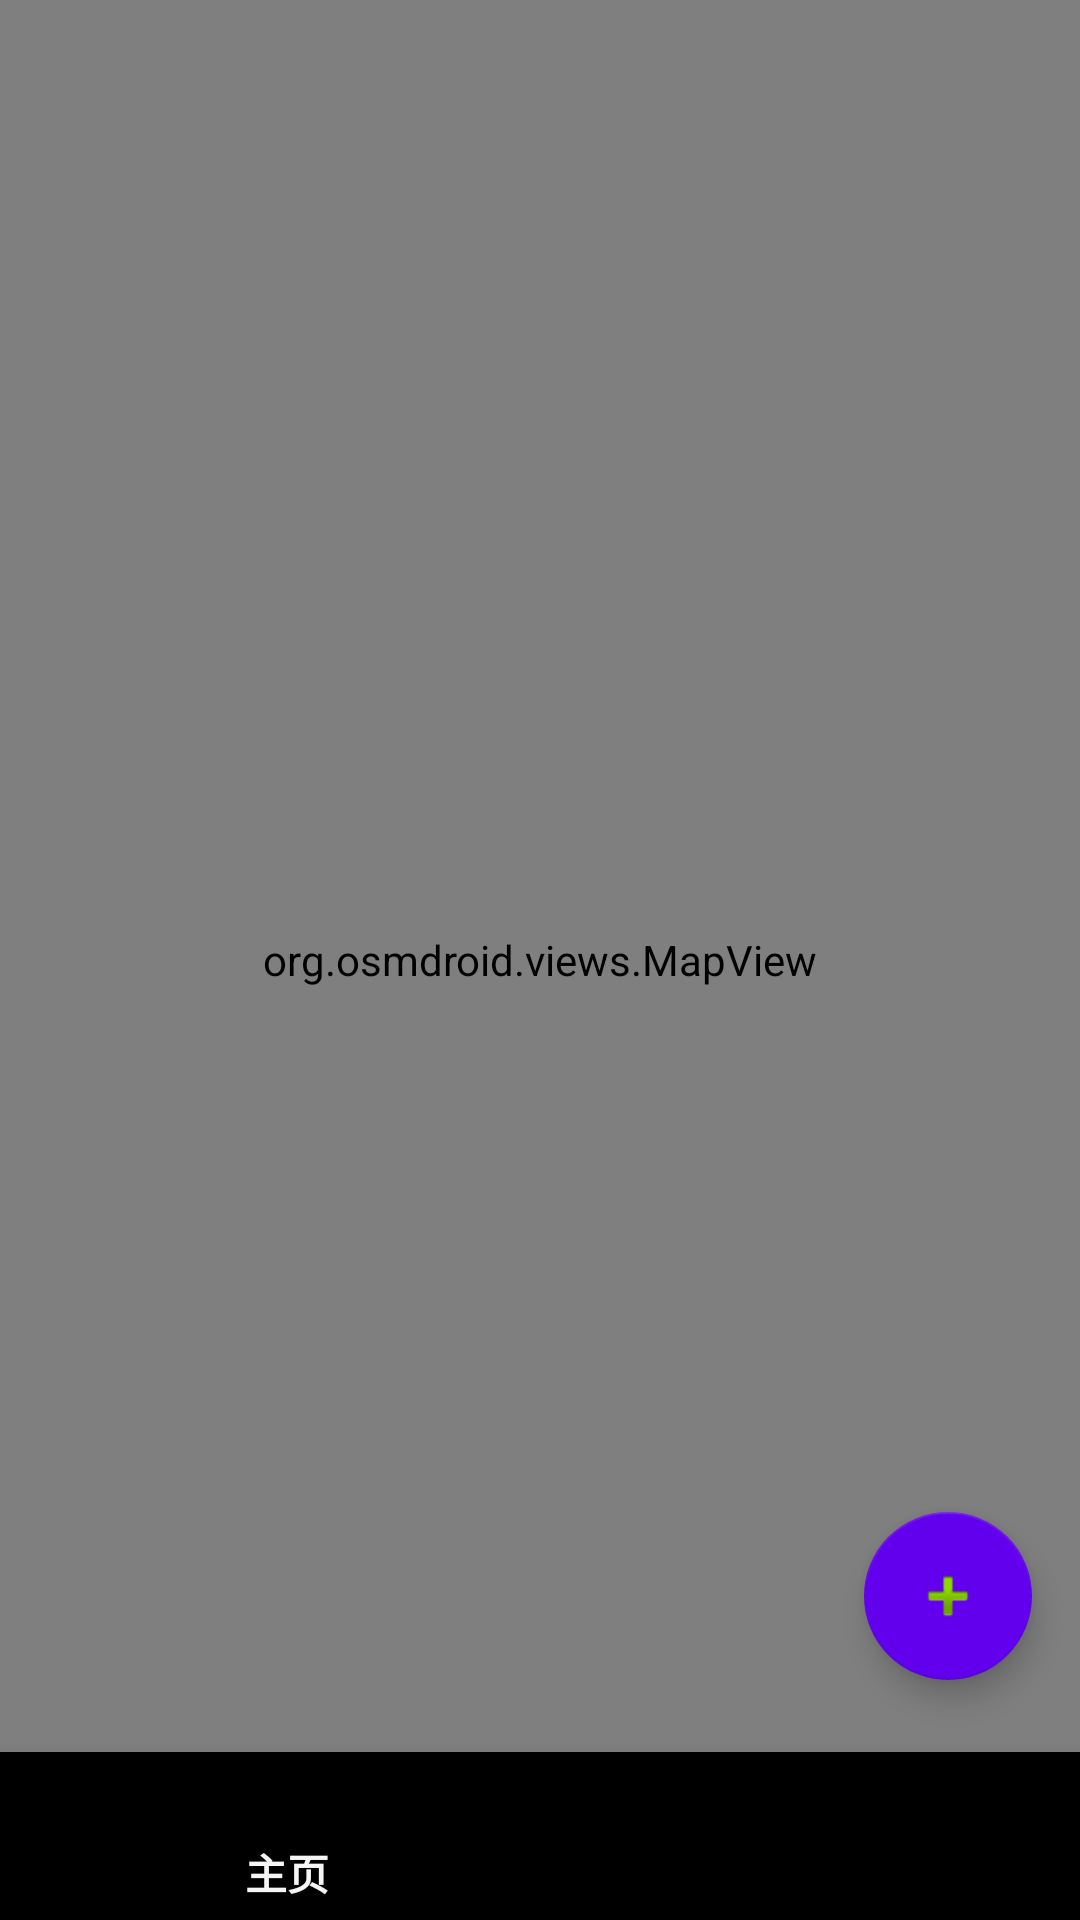

Where icons sit on this 1080 x 1920 app screen, as (x1, y1, x2, y2):
add: (864, 1512, 1032, 1680)
